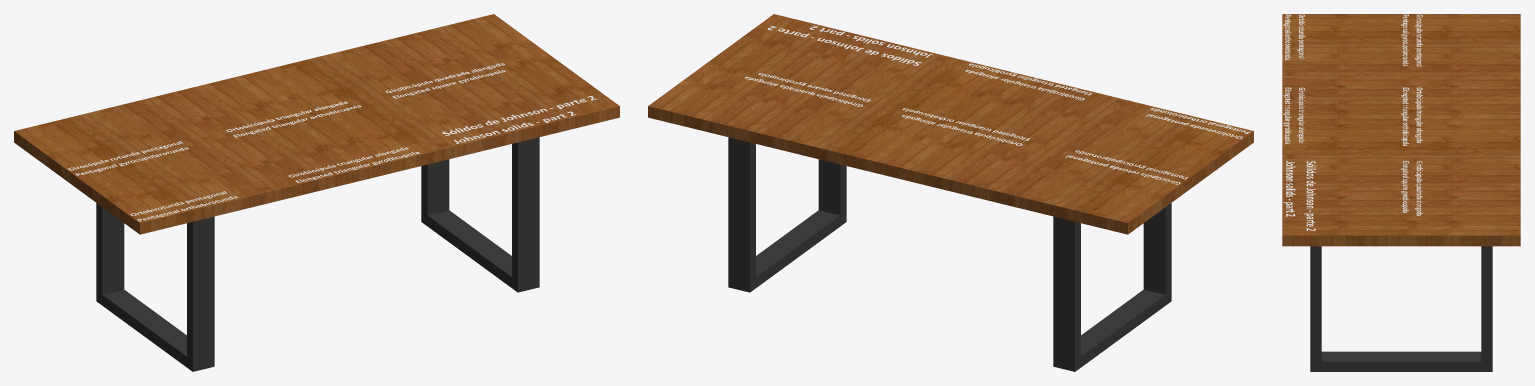
Rendered from johnson2a.glb.
3 views of the same model, side by side, from view 1: azimuth 30°, elevation 25°; view 2: azimuth 150°, elevation 25°; view 3: azimuth 270°, elevation 25° (orthographic). The views are drawn at different scales.
Visible parts, largest first — view 1: object 1, Composant#1 (×2), Sólidos de Johns#1, Ortobicúpula tri#1, Girobicúpula tri, Girobicúpula qua, Girocúpula rotun; view 2: object 1, Composant#1 (×2), Sólidos de Johns#1, Girobicúpula tri, Ortobicúpula tri#1, Girobicúpula qua, Girocúpula rotun; view 3: object 1, Composant#1, Sólidos de Johns#1, Ortobicúpula tri#1, Girobicúpula tri, Girobicúpula qua, Girocúpula rotun, Ortobirotunda pe.
Part boxes in pixels (bbox=[...]): object 1: bbox=[14, 14, 619, 234]; Composant#1 (×2): bbox=[96, 137, 539, 371]; Sólidos de Johns#1: bbox=[442, 96, 596, 143]; Ortobicúpula tri#1: bbox=[226, 101, 361, 137]; Girobicúpula tri: bbox=[289, 147, 419, 182]; Girobicúpula qua: bbox=[385, 63, 505, 98]; Girocúpula rotun: bbox=[68, 141, 188, 175]; object 1: bbox=[648, 14, 1253, 234]; Composant#1 (×2): bbox=[728, 137, 1171, 371]; Sólidos de Johns#1: bbox=[767, 25, 932, 65]; Girobicúpula tri: bbox=[965, 63, 1091, 100]; Ortobicúpula tri#1: bbox=[902, 108, 1029, 145]; Girobicúpula qua: bbox=[745, 73, 870, 106]; Girocúpula rotun: bbox=[1065, 150, 1187, 184]; object 1: bbox=[1282, 14, 1520, 246]; Composant#1: bbox=[1310, 246, 1492, 371]; Sólidos de Johns#1: bbox=[1283, 161, 1316, 230]; Ortobicúpula tri#1: bbox=[1401, 87, 1422, 145]; Girobicúpula tri: bbox=[1283, 87, 1305, 143]; Girobicúpula qua: bbox=[1401, 161, 1422, 215]; Girocúpula rotun: bbox=[1401, 14, 1422, 66]; Ortobirotunda pe: bbox=[1283, 14, 1305, 59].
Bounding box in the file's own units: 2.2 × 0.7711 × 1.
Materials: 3 (1 with a texture image).
